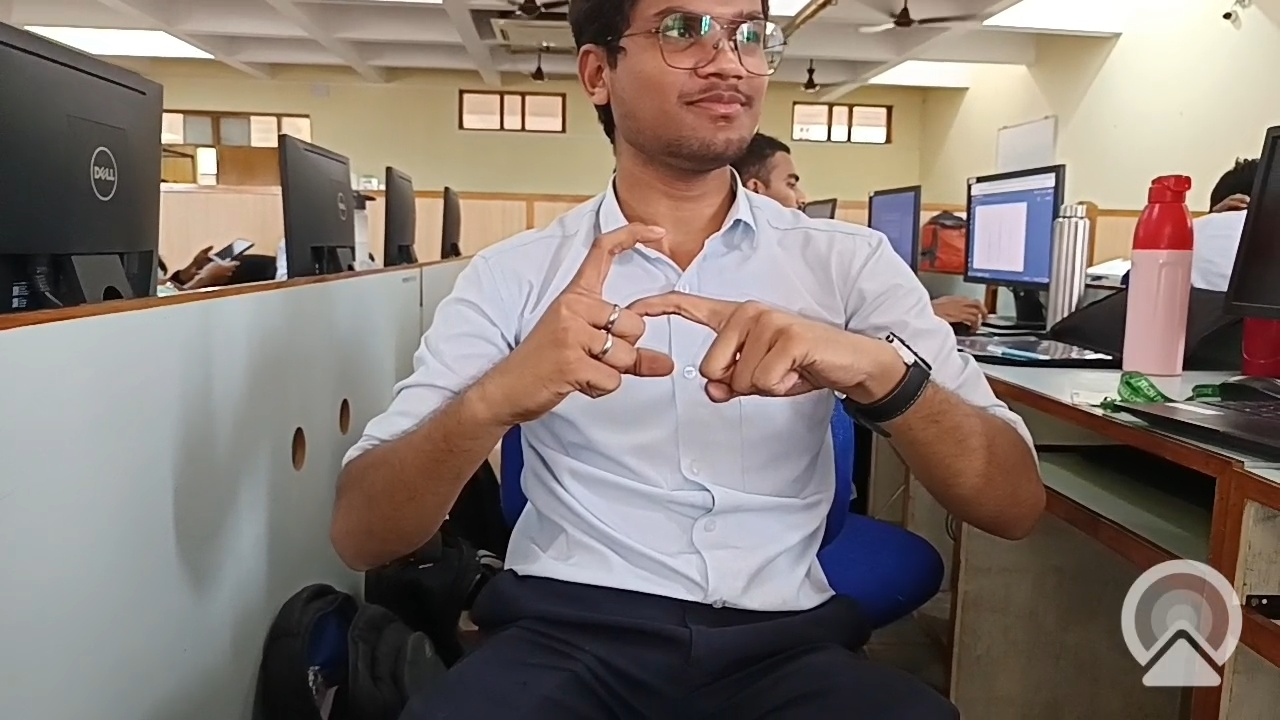E: (482, 195, 904, 431)
